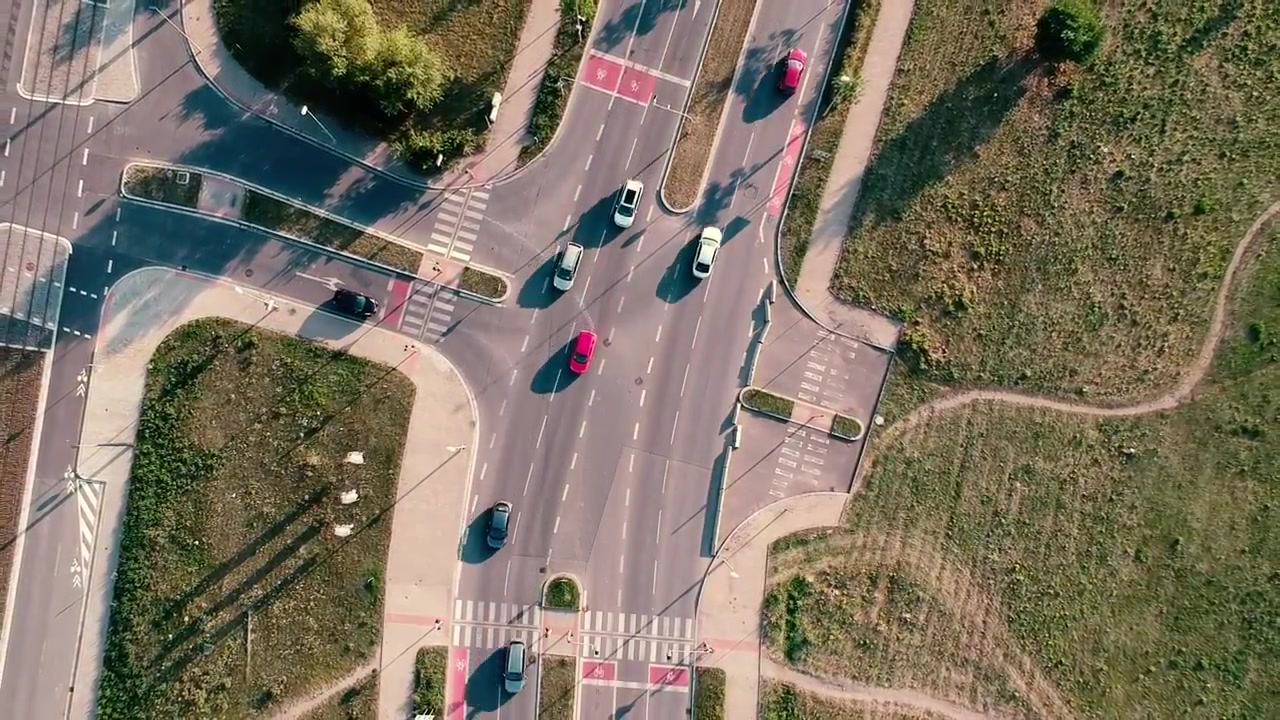car: (690, 223, 726, 282), (611, 178, 646, 231), (774, 46, 809, 99), (552, 239, 586, 293), (328, 288, 383, 320), (484, 498, 514, 551), (566, 328, 598, 377), (501, 638, 527, 694)
